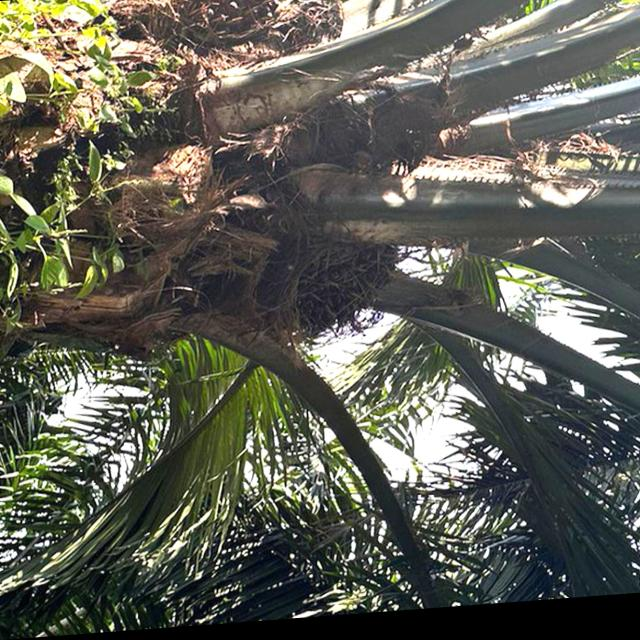unripe: (256, 219, 409, 366)
